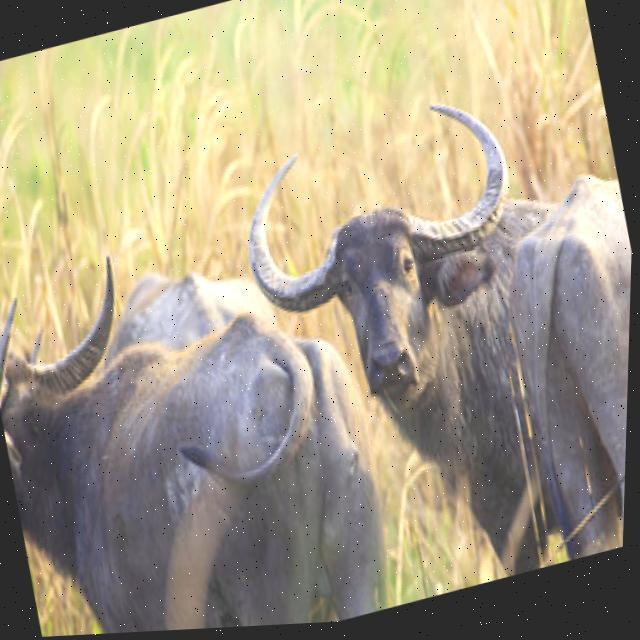Buffalo: (231, 90, 602, 625), (0, 191, 338, 640)
